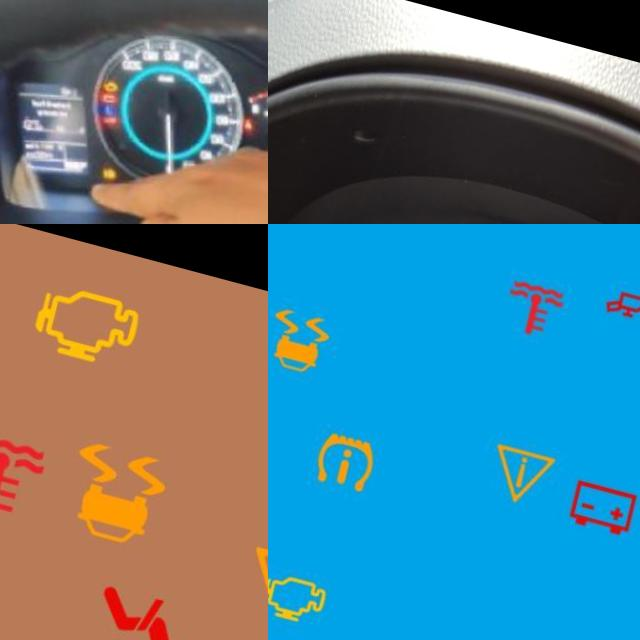Engine cooling system: (111, 88, 122, 101)
High Engine Coolant Temperature: (0, 400, 77, 540), (498, 243, 584, 331)
